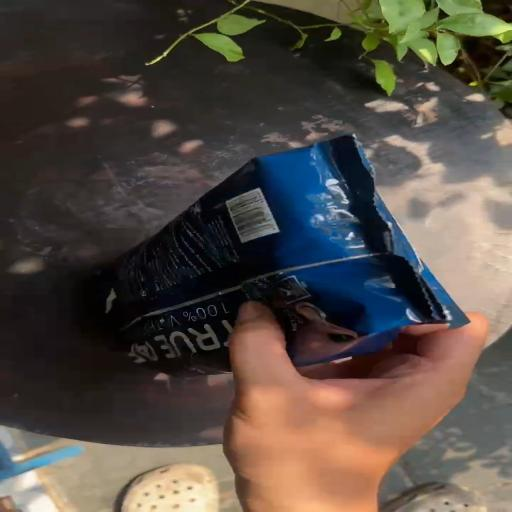cafe_hat: (101, 134, 466, 374)
